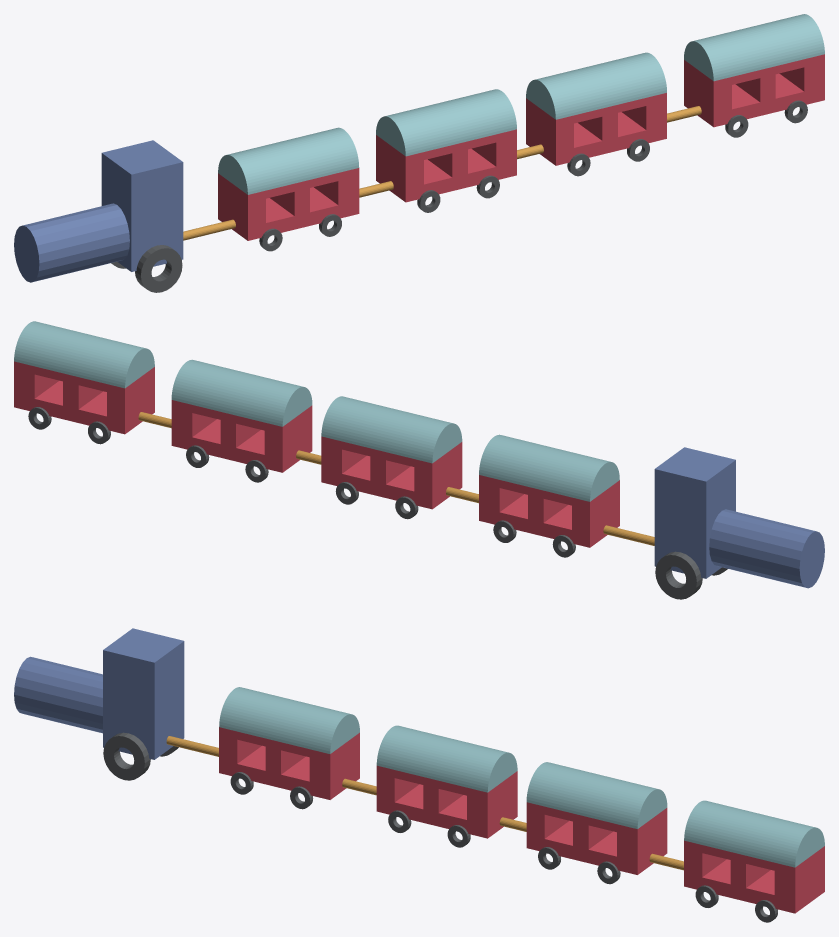
Rendered from train.glb.
3 renders of one model, top to bottom at view 1: azimuth 30°, elevation 25°; view 2: azimuth 150°, elevation 25°; view 3: azimuth 330°, elevation 25°, orthographic.
Parts seen in each view (by area): view 1: Mesh_Mesh_head_geo.001_lambert2SG.001; view 2: Mesh_Mesh_head_geo.001_lambert2SG.001; view 3: Mesh_Mesh_head_geo.001_lambert2SG.001.
Boxes of the visible parts, <box> form: Mesh_Mesh_head_geo.001_lambert2SG.001: <box>14,14,824,292</box>; Mesh_Mesh_head_geo.001_lambert2SG.001: <box>14,321,824,599</box>; Mesh_Mesh_head_geo.001_lambert2SG.001: <box>14,628,824,922</box>.
Bounding box in the file's own units: 303 × 44.55 × 26.
